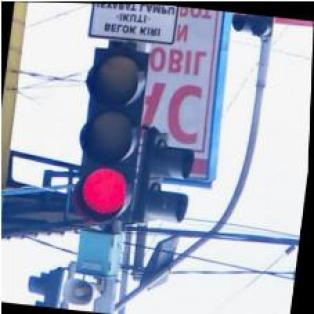Semaforo Rojo: (70, 45, 149, 226)
